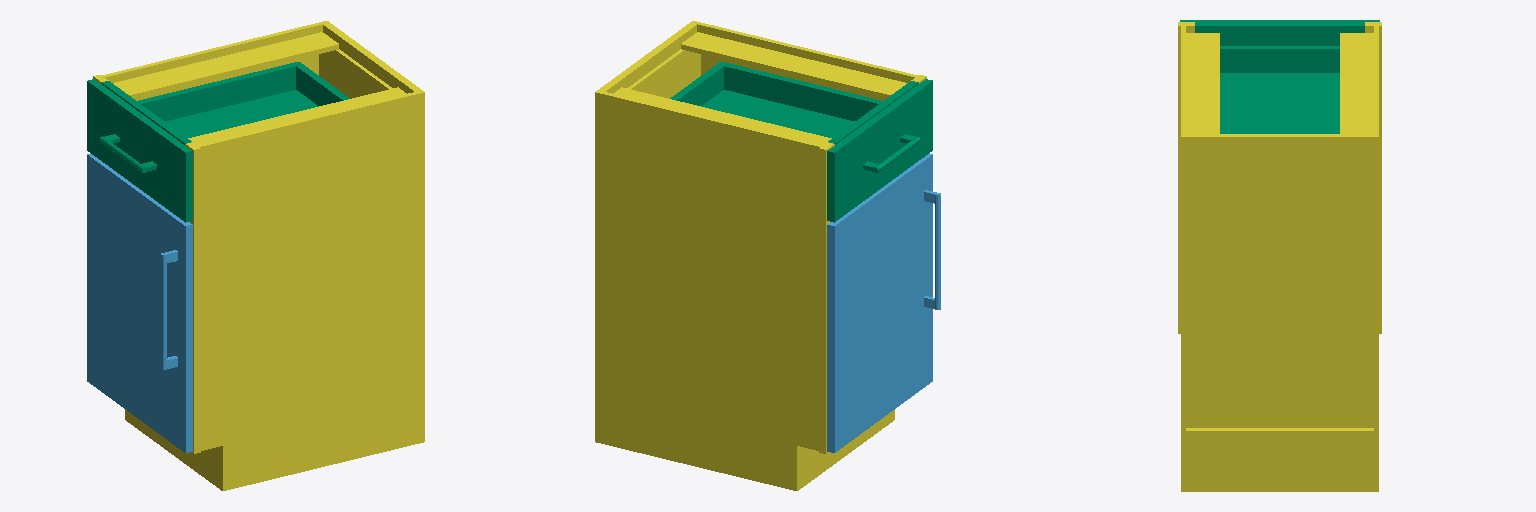
The robot description file, URDF, robot "partnet_26dcf7a76c89d5aa4da5feafe6f1c8fc":
<?xml version="1.0" ?>
<robot name="partnet_26dcf7a76c89d5aa4da5feafe6f1c8fc">
	<link name="base"/>
	<link name="link_0">
		<visual name="cabinet_door_surface-16">
			<origin xyz="0.40733147877175346 0.6408960223197937 -0.534749449612443"/>
			<geometry>
				<mesh filename="textured_objs/original-40.obj"/>
			</geometry>
		</visual>
		<visual name="handle-17">
			<origin xyz="0.40733147877175346 0.6408960223197937 -0.534749449612443"/>
			<geometry>
				<mesh filename="textured_objs/original-42.obj"/>
			</geometry>
		</visual>
		<visual name="handle-17">
			<origin xyz="0.40733147877175346 0.6408960223197937 -0.534749449612443"/>
			<geometry>
				<mesh filename="textured_objs/original-44.obj"/>
			</geometry>
		</visual>
		<visual name="handle-17">
			<origin xyz="0.40733147877175346 0.6408960223197937 -0.534749449612443"/>
			<geometry>
				<mesh filename="textured_objs/original-43.obj"/>
			</geometry>
		</visual>
		<collision>
			<origin xyz="0.40733147877175346 0.6408960223197937 -0.534749449612443"/>
			<geometry>
				<mesh filename="textured_objs/original-40.obj"/>
			</geometry>
		</collision>
		<collision>
			<origin xyz="0.40733147877175346 0.6408960223197937 -0.534749449612443"/>
			<geometry>
				<mesh filename="textured_objs/original-42.obj"/>
			</geometry>
		</collision>
		<collision>
			<origin xyz="0.40733147877175346 0.6408960223197937 -0.534749449612443"/>
			<geometry>
				<mesh filename="textured_objs/original-44.obj"/>
			</geometry>
		</collision>
		<collision>
			<origin xyz="0.40733147877175346 0.6408960223197937 -0.534749449612443"/>
			<geometry>
				<mesh filename="textured_objs/original-43.obj"/>
			</geometry>
		</collision>
	</link>
	<joint name="joint_0" type="revolute">
		<origin xyz="-0.40733147877175346 -0.6408960223197937 0.534749449612443"/>
		<axis xyz="0 -1 0"/>
		<child link="link_0"/>
		<parent link="link_2"/>
		<limit lower="0.0" upper="1.5833626974092556"/>
	</joint>
	<link name="link_1">
		<visual name="drawer_side-9">
			<origin xyz="0.0442021056935627 -0.5351194006185448 0.5088250041007991"/>
			<geometry>
				<mesh filename="textured_objs/original-25.obj"/>
			</geometry>
		</visual>
		<visual name="drawer_side-10">
			<origin xyz="0.0442021056935627 -0.5351194006185448 0.5088250041007991"/>
			<geometry>
				<mesh filename="textured_objs/original-30.obj"/>
			</geometry>
		</visual>
		<visual name="drawer_back-11">
			<origin xyz="0.0442021056935627 -0.5351194006185448 0.5088250041007991"/>
			<geometry>
				<mesh filename="textured_objs/original-31.obj"/>
			</geometry>
		</visual>
		<visual name="drawer_bottom-12">
			<origin xyz="0.0442021056935627 -0.5351194006185448 0.5088250041007991"/>
			<geometry>
				<mesh filename="textured_objs/original-29.obj"/>
			</geometry>
		</visual>
		<visual name="drawer_bottom-12">
			<origin xyz="0.0442021056935627 -0.5351194006185448 0.5088250041007991"/>
			<geometry>
				<mesh filename="textured_objs/original-28.obj"/>
			</geometry>
		</visual>
		<visual name="drawer_front-13">
			<origin xyz="0.0442021056935627 -0.5351194006185448 0.5088250041007991"/>
			<geometry>
				<mesh filename="textured_objs/original-26.obj"/>
			</geometry>
		</visual>
		<visual name="drawer_front-13">
			<origin xyz="0.0442021056935627 -0.5351194006185448 0.5088250041007991"/>
			<geometry>
				<mesh filename="textured_objs/original-34.obj"/>
			</geometry>
		</visual>
		<visual name="drawer_front-13">
			<origin xyz="0.0442021056935627 -0.5351194006185448 0.5088250041007991"/>
			<geometry>
				<mesh filename="textured_objs/original-7.obj"/>
			</geometry>
		</visual>
		<visual name="other_leaf-15">
			<origin xyz="0.0442021056935627 -0.5351194006185448 0.5088250041007991"/>
			<geometry>
				<mesh filename="textured_objs/original-32.obj"/>
			</geometry>
		</visual>
		<visual name="handle-7">
			<origin xyz="0.0442021056935627 -0.5351194006185448 0.5088250041007991"/>
			<geometry>
				<mesh filename="textured_objs/original-36.obj"/>
			</geometry>
		</visual>
		<visual name="handle-7">
			<origin xyz="0.0442021056935627 -0.5351194006185448 0.5088250041007991"/>
			<geometry>
				<mesh filename="textured_objs/original-38.obj"/>
			</geometry>
		</visual>
		<visual name="handle-7">
			<origin xyz="0.0442021056935627 -0.5351194006185448 0.5088250041007991"/>
			<geometry>
				<mesh filename="textured_objs/original-37.obj"/>
			</geometry>
		</visual>
		<collision>
			<origin xyz="0.0442021056935627 -0.5351194006185448 0.5088250041007991"/>
			<geometry>
				<mesh filename="textured_objs/original-25.obj"/>
			</geometry>
		</collision>
		<collision>
			<origin xyz="0.0442021056935627 -0.5351194006185448 0.5088250041007991"/>
			<geometry>
				<mesh filename="textured_objs/original-30.obj"/>
			</geometry>
		</collision>
		<collision>
			<origin xyz="0.0442021056935627 -0.5351194006185448 0.5088250041007991"/>
			<geometry>
				<mesh filename="textured_objs/original-31.obj"/>
			</geometry>
		</collision>
		<collision>
			<origin xyz="0.0442021056935627 -0.5351194006185448 0.5088250041007991"/>
			<geometry>
				<mesh filename="textured_objs/original-29.obj"/>
			</geometry>
		</collision>
		<collision>
			<origin xyz="0.0442021056935627 -0.5351194006185448 0.5088250041007991"/>
			<geometry>
				<mesh filename="textured_objs/original-28.obj"/>
			</geometry>
		</collision>
		<collision>
			<origin xyz="0.0442021056935627 -0.5351194006185448 0.5088250041007991"/>
			<geometry>
				<mesh filename="textured_objs/original-26.obj"/>
			</geometry>
		</collision>
		<collision>
			<origin xyz="0.0442021056935627 -0.5351194006185448 0.5088250041007991"/>
			<geometry>
				<mesh filename="textured_objs/original-34.obj"/>
			</geometry>
		</collision>
		<collision>
			<origin xyz="0.0442021056935627 -0.5351194006185448 0.5088250041007991"/>
			<geometry>
				<mesh filename="textured_objs/original-7.obj"/>
			</geometry>
		</collision>
		<collision>
			<origin xyz="0.0442021056935627 -0.5351194006185448 0.5088250041007991"/>
			<geometry>
				<mesh filename="textured_objs/original-32.obj"/>
			</geometry>
		</collision>
		<collision>
			<origin xyz="0.0442021056935627 -0.5351194006185448 0.5088250041007991"/>
			<geometry>
				<mesh filename="textured_objs/original-36.obj"/>
			</geometry>
		</collision>
		<collision>
			<origin xyz="0.0442021056935627 -0.5351194006185448 0.5088250041007991"/>
			<geometry>
				<mesh filename="textured_objs/original-38.obj"/>
			</geometry>
		</collision>
		<collision>
			<origin xyz="0.0442021056935627 -0.5351194006185448 0.5088250041007991"/>
			<geometry>
				<mesh filename="textured_objs/original-37.obj"/>
			</geometry>
		</collision>
	</link>
	<joint name="joint_1" type="prismatic">
		<origin xyz="-0.0442021056935627 0.5351194006185448 -0.5088250041007991"/>
		<axis xyz="0 0 0.9999999999999999"/>
		<child link="link_1"/>
		<parent link="link_2"/>
		<limit lower="0" upper="0.7759999999999998"/>
	</joint>
	<link name="link_2">
		<visual name="shelf-24">
			<origin xyz="0 0 0"/>
			<geometry>
				<mesh filename="textured_objs/original-2.obj"/>
			</geometry>
		</visual>
		<visual name="base_side_panel-19">
			<origin xyz="0 0 0"/>
			<geometry>
				<mesh filename="textured_objs/original-17.obj"/>
			</geometry>
		</visual>
		<visual name="base_side_panel-20">
			<origin xyz="0 0 0"/>
			<geometry>
				<mesh filename="textured_objs/original-19.obj"/>
			</geometry>
		</visual>
		<visual name="base_side_panel-21">
			<origin xyz="0 0 0"/>
			<geometry>
				<mesh filename="textured_objs/original-13.obj"/>
			</geometry>
		</visual>
		<visual name="base_side_panel-22">
			<origin xyz="0 0 0"/>
			<geometry>
				<mesh filename="textured_objs/original-20.obj"/>
			</geometry>
		</visual>
		<visual name="frame_horizontal_bar-30">
			<origin xyz="0 0 0"/>
			<geometry>
				<mesh filename="textured_objs/original-18.obj"/>
			</geometry>
		</visual>
		<visual name="frame_horizontal_bar-31">
			<origin xyz="0 0 0"/>
			<geometry>
				<mesh filename="textured_objs/original-22.obj"/>
			</geometry>
		</visual>
		<visual name="frame_horizontal_bar-32">
			<origin xyz="0 0 0"/>
			<geometry>
				<mesh filename="textured_objs/original-21.obj"/>
			</geometry>
		</visual>
		<visual name="vertical_side_panel-33">
			<origin xyz="0 0 0"/>
			<geometry>
				<mesh filename="textured_objs/original-12.obj"/>
			</geometry>
		</visual>
		<visual name="vertical_side_panel-33">
			<origin xyz="0 0 0"/>
			<geometry>
				<mesh filename="textured_objs/original-11.obj"/>
			</geometry>
		</visual>
		<visual name="vertical_side_panel-34">
			<origin xyz="0 0 0"/>
			<geometry>
				<mesh filename="textured_objs/original-16.obj"/>
			</geometry>
		</visual>
		<visual name="vertical_side_panel-34">
			<origin xyz="0 0 0"/>
			<geometry>
				<mesh filename="textured_objs/original-15.obj"/>
			</geometry>
		</visual>
		<visual name="back_panel-35">
			<origin xyz="0 0 0"/>
			<geometry>
				<mesh filename="textured_objs/original-6.obj"/>
			</geometry>
		</visual>
		<visual name="bottom_panel-36">
			<origin xyz="0 0 0"/>
			<geometry>
				<mesh filename="textured_objs/original-3.obj"/>
			</geometry>
		</visual>
		<visual name="frame_vertical_bar-37">
			<origin xyz="0 0 0"/>
			<geometry>
				<mesh filename="textured_objs/original-8.obj"/>
			</geometry>
		</visual>
		<visual name="frame_vertical_bar-38">
			<origin xyz="0 0 0"/>
			<geometry>
				<mesh filename="textured_objs/original-4.obj"/>
			</geometry>
		</visual>
		<visual name="frame_horizontal_bar-39">
			<origin xyz="0 0 0"/>
			<geometry>
				<mesh filename="textured_objs/original-9.obj"/>
			</geometry>
		</visual>
		<visual name="frame_horizontal_bar-40">
			<origin xyz="0 0 0"/>
			<geometry>
				<mesh filename="textured_objs/original-5.obj"/>
			</geometry>
		</visual>
		<visual name="other_leaf-42">
			<origin xyz="0 0 0"/>
			<geometry>
				<mesh filename="textured_objs/original-45.obj"/>
			</geometry>
		</visual>
		<collision>
			<origin xyz="0 0 0"/>
			<geometry>
				<mesh filename="textured_objs/original-2.obj"/>
			</geometry>
		</collision>
		<collision>
			<origin xyz="0 0 0"/>
			<geometry>
				<mesh filename="textured_objs/original-17.obj"/>
			</geometry>
		</collision>
		<collision>
			<origin xyz="0 0 0"/>
			<geometry>
				<mesh filename="textured_objs/original-19.obj"/>
			</geometry>
		</collision>
		<collision>
			<origin xyz="0 0 0"/>
			<geometry>
				<mesh filename="textured_objs/original-13.obj"/>
			</geometry>
		</collision>
		<collision>
			<origin xyz="0 0 0"/>
			<geometry>
				<mesh filename="textured_objs/original-20.obj"/>
			</geometry>
		</collision>
		<collision>
			<origin xyz="0 0 0"/>
			<geometry>
				<mesh filename="textured_objs/original-18.obj"/>
			</geometry>
		</collision>
		<collision>
			<origin xyz="0 0 0"/>
			<geometry>
				<mesh filename="textured_objs/original-22.obj"/>
			</geometry>
		</collision>
		<collision>
			<origin xyz="0 0 0"/>
			<geometry>
				<mesh filename="textured_objs/original-21.obj"/>
			</geometry>
		</collision>
		<collision>
			<origin xyz="0 0 0"/>
			<geometry>
				<mesh filename="textured_objs/original-12.obj"/>
			</geometry>
		</collision>
		<collision>
			<origin xyz="0 0 0"/>
			<geometry>
				<mesh filename="textured_objs/original-11.obj"/>
			</geometry>
		</collision>
		<collision>
			<origin xyz="0 0 0"/>
			<geometry>
				<mesh filename="textured_objs/original-16.obj"/>
			</geometry>
		</collision>
		<collision>
			<origin xyz="0 0 0"/>
			<geometry>
				<mesh filename="textured_objs/original-15.obj"/>
			</geometry>
		</collision>
		<collision>
			<origin xyz="0 0 0"/>
			<geometry>
				<mesh filename="textured_objs/original-6.obj"/>
			</geometry>
		</collision>
		<collision>
			<origin xyz="0 0 0"/>
			<geometry>
				<mesh filename="textured_objs/original-3.obj"/>
			</geometry>
		</collision>
		<collision>
			<origin xyz="0 0 0"/>
			<geometry>
				<mesh filename="textured_objs/original-8.obj"/>
			</geometry>
		</collision>
		<collision>
			<origin xyz="0 0 0"/>
			<geometry>
				<mesh filename="textured_objs/original-4.obj"/>
			</geometry>
		</collision>
		<collision>
			<origin xyz="0 0 0"/>
			<geometry>
				<mesh filename="textured_objs/original-9.obj"/>
			</geometry>
		</collision>
		<collision>
			<origin xyz="0 0 0"/>
			<geometry>
				<mesh filename="textured_objs/original-5.obj"/>
			</geometry>
		</collision>
		<collision>
			<origin xyz="0 0 0"/>
			<geometry>
				<mesh filename="textured_objs/original-45.obj"/>
			</geometry>
		</collision>
	</link>
	<joint name="joint_2" type="fixed">
		<origin rpy="1.570796326794897 0 -1.570796326794897" xyz="0 0 0"/>
		<child link="link_2"/>
		<parent link="base"/>
	</joint>
</robot>

--- Render facts (derived) ---
3 views of the same robot in one strip: view 1: azimuth 30°, elevation 25°; view 2: azimuth 150°, elevation 25°; view 3: azimuth 270°, elevation 25° (orthographic).
Model partnet_26dcf7a76c89d5aa4da5feafe6f1c8fc with 4 links and 3 joints (1 revolute, 1 prismatic, 1 fixed), rooted at base, posed all joints at 0.
Links seen in each view (by area): view 1: link_2, link_0, link_1; view 2: link_2, link_0, link_1; view 3: link_2, link_1.
Boxes of the visible links, x1,y1,x2,y2 form: link_2: (93,21,424,490); link_0: (87,153,192,452); link_1: (87,62,349,222); link_2: (595,21,926,490); link_0: (827,153,940,452); link_1: (670,61,932,222); link_2: (1178,22,1381,491); link_1: (1180,20,1379,133).
Bounding box of the posed robot: 1.19 × 0.8102 × 1.55 m (x, y, z).
35 mesh visuals loaded from 35 distinct referenced files (35 OBJ).
